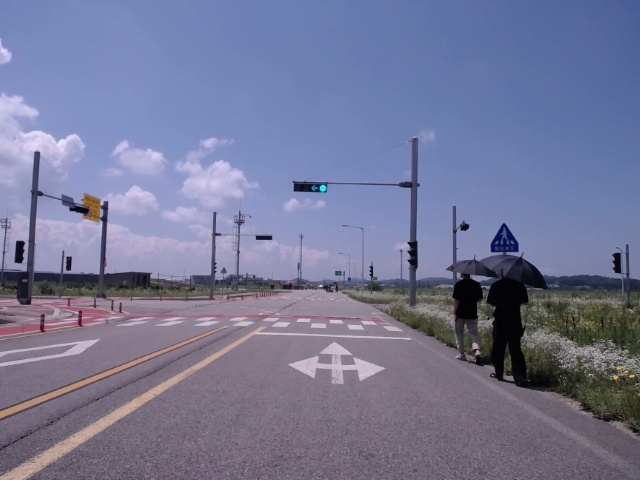all_green_4: (294, 182, 325, 192)
